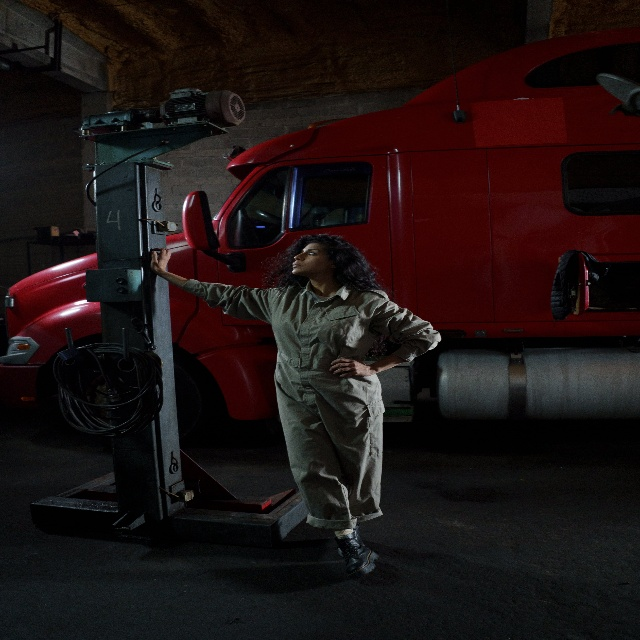Sin_guantes: (328, 356, 373, 377), (150, 243, 172, 274)
